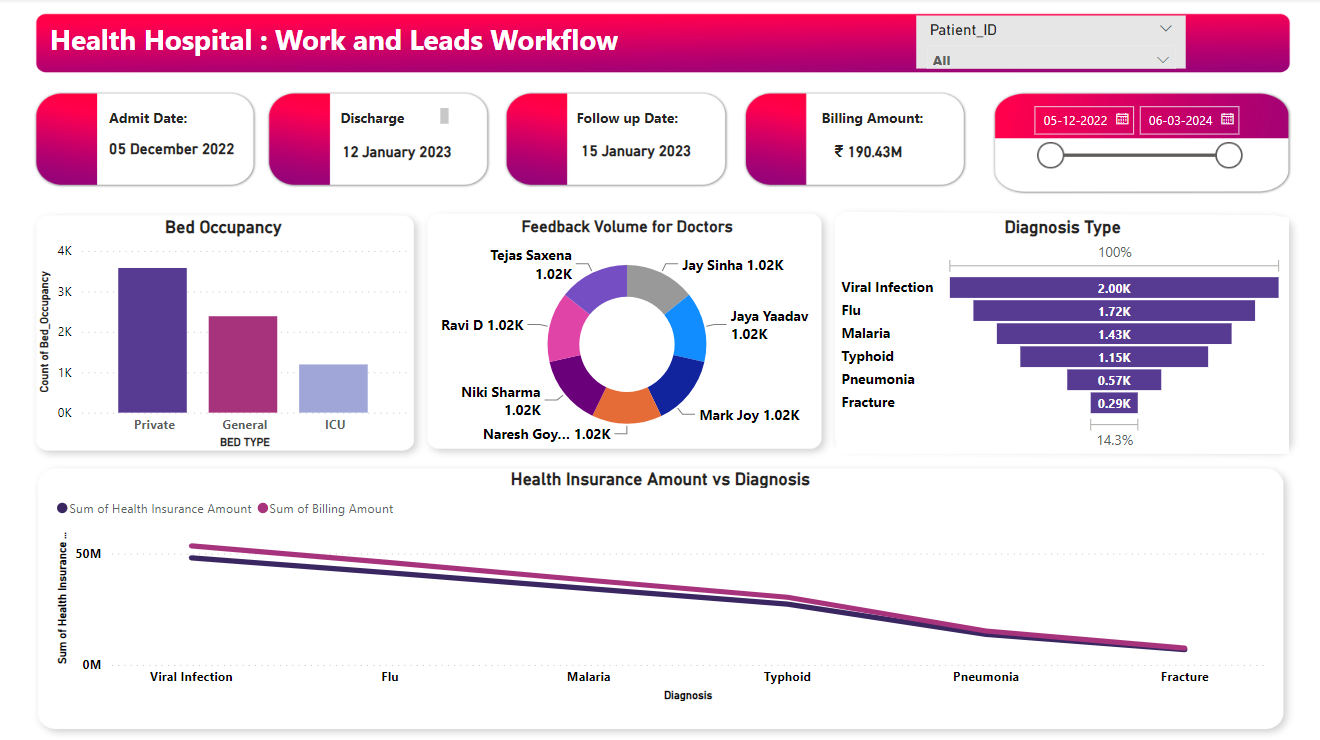

What the dashboard file says about the page in this screenshot:
{"tool":"powerbi","page":{"name":"Page 1","canvas":[1280,720],"ordinal":0},"visuals":[{"type":"textbox","box":[32.9,17.1,579.3,51.4],"z":0},{"type":"slicer","fields":{"Values":["Sheet1.Patient_ID"]},"box":[884.3,17.1,260,51.4],"z":1000},{"type":"actionButton","box":[0,0,100,40],"z":2000},{"type":"card","fields":{"Values":["Sheet1.Admit_Date"]},"box":[100,133.1,131.5,28.5],"z":3000},{"type":"textbox","box":[100,101.8,125.9,31.2],"z":4000},{"type":"textbox","box":[322.9,101.4,114.3,31.4],"z":5000},{"type":"textbox","box":[551.4,101.4,125,45.7],"z":6000},{"type":"textbox","box":[787.7,101.5,116.2,45.4],"z":6001},{"type":"card","fields":{"Values":["Sheet1.Discharge_Date"]},"box":[323.1,133.1,120,33.1],"z":6002},{"type":"card","fields":{"Values":["Sheet1.Followup Date"]},"box":[551.5,133.1,125.4,23.8],"z":6003},{"type":"card","fields":{"Values":["Sheet1.Billing Amount"]},"box":[787.7,135.4,100.8,26.2],"z":6005},{"type":"slicer","fields":{"Values":["Sheet1.Admit_Date"]},"box":[985.4,94.6,221.5,77.7],"z":6006},{"type":"columnChart","title":"Bed Occupancy","fields":{"Category":["Sheet1.Bed_Occupancy"],"Y":["Sheet1.Bed_Occupancy"]},"box":[33,211,366,229],"z":6007},{"type":"donutChart","title":"Feedback Volume for Doctors","fields":{"Category":["Sheet1.Doctor"],"Y":["Sheet1.Doctor"]},"box":[422,211,366,229],"z":6008},{"type":"funnel","title":" Diagnosis Type","fields":{"Category":["Sheet1.Diagnosis"],"Y":["Sheet1.Diagnosis"]},"box":[807,211,437,229],"z":6009},{"type":"lineChart","title":"Health Insurance Amount vs  Diagnosis","fields":{"Y":["Sheet1.Health Insurance Amount","Sheet1.Billing Amount"],"Category":["Sheet1.Diagnosis"]},"box":[50,453.3,1175.6,230],"z":6010}]}

Visuals, with their boxes in screenshot pixels (x1, y1, x2, y2), scaled from the page's 1280x720 canvas onto the 1320x740 screenshot:
textbox: [34,18,631,70]
slicer - Sheet1.Patient_ID: [912,18,1180,70]
actionButton: [0,0,103,41]
card - Sheet1.Admit_Date: [103,137,239,166]
textbox: [103,105,233,137]
textbox: [333,104,451,136]
textbox: [569,104,698,151]
textbox: [812,104,932,151]
card - Sheet1.Discharge_Date: [333,137,457,171]
card - Sheet1.Followup Date: [569,137,698,161]
card - Sheet1.Billing Amount: [812,139,916,166]
slicer - Sheet1.Admit_Date: [1016,97,1245,177]
"Bed Occupancy" columnChart: [34,217,411,452]
"Feedback Volume for Doctors" donutChart: [435,217,813,452]
" Diagnosis Type" funnel: [832,217,1283,452]
"Health Insurance Amount vs  Diagnosis" lineChart: [52,466,1264,702]
